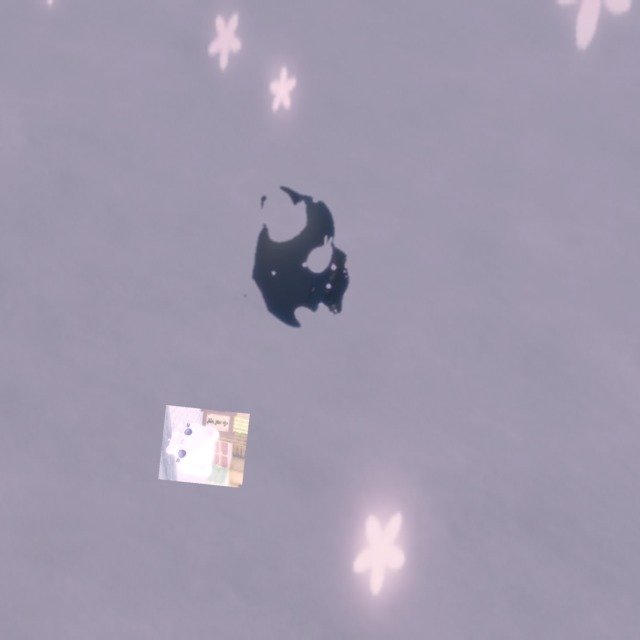urso_branco: (158, 405, 250, 488)
urso_preto: (232, 166, 365, 351)
